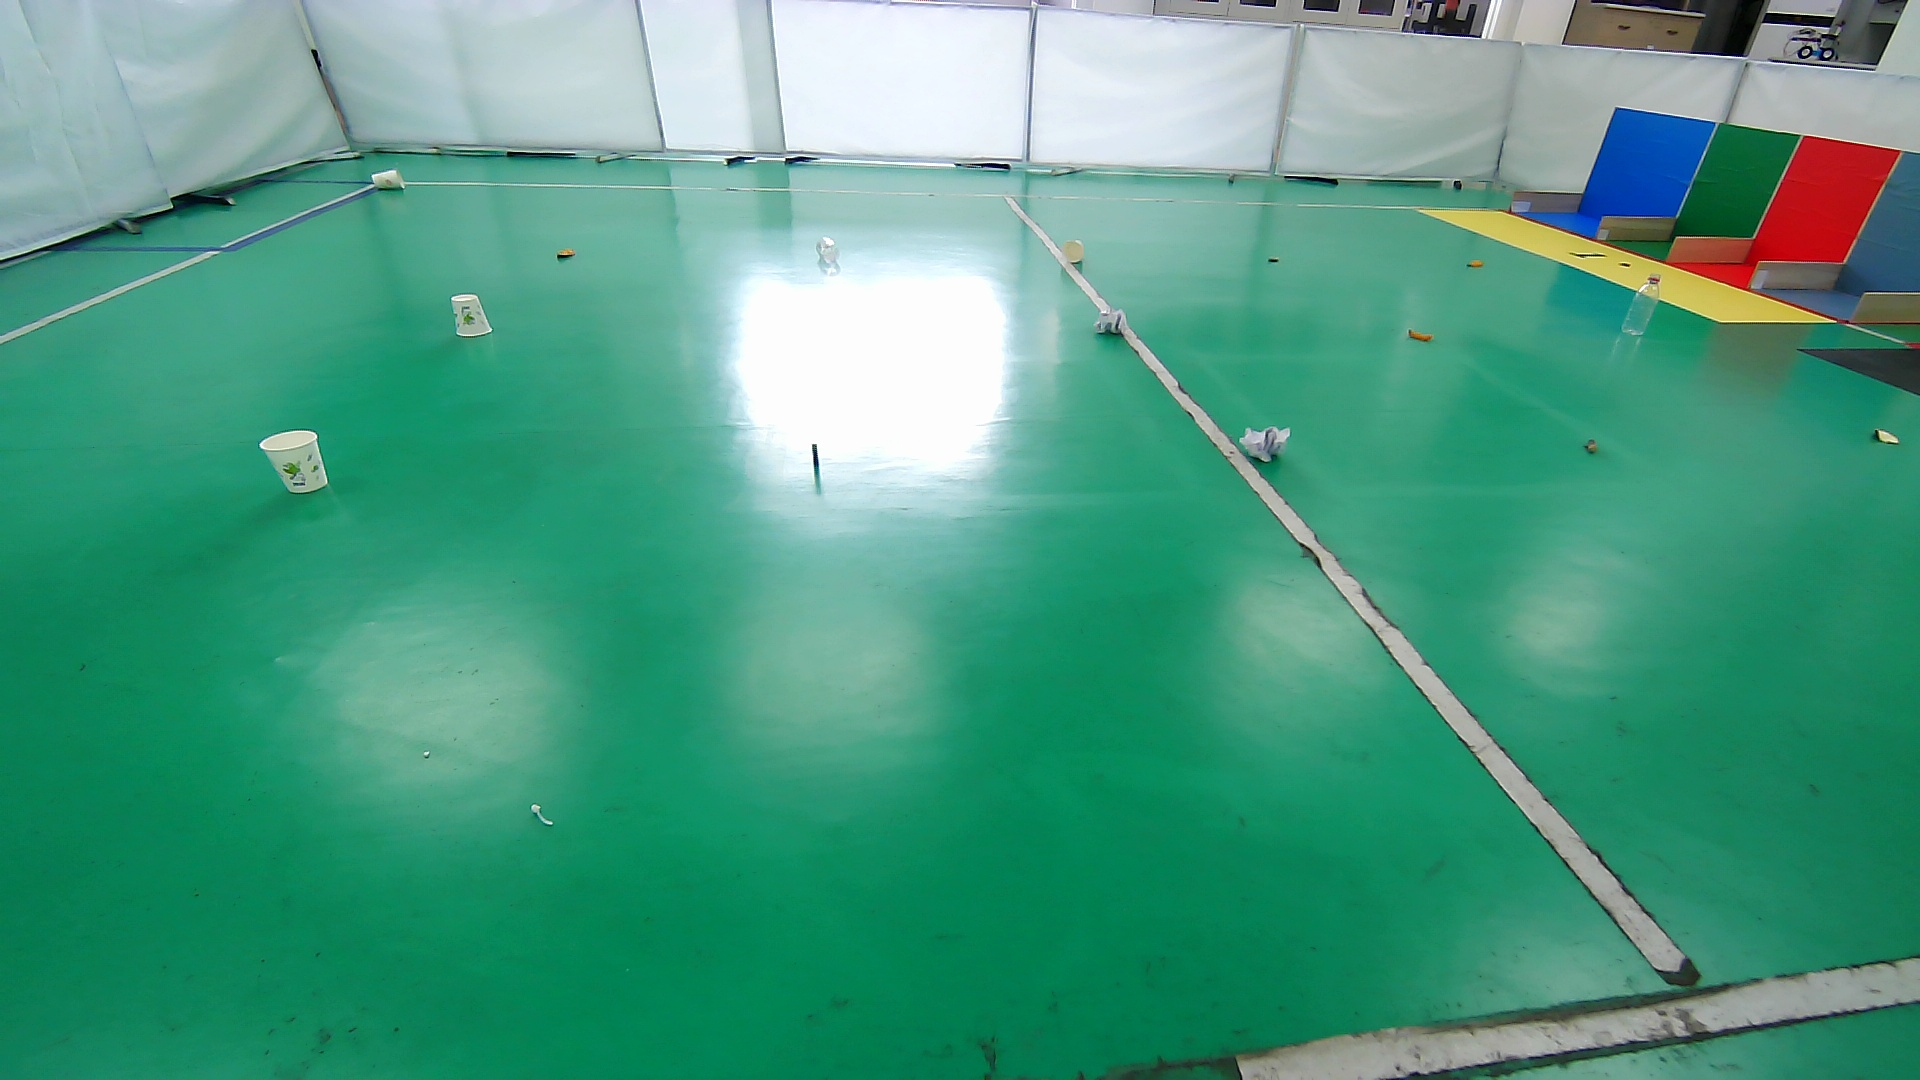battery: (1573, 431, 1609, 462), (803, 438, 829, 473), (1261, 251, 1286, 270)
bottle: (1618, 269, 1662, 339), (814, 233, 843, 264)
orangepeel: (1866, 423, 1902, 451), (1402, 324, 1440, 349), (550, 243, 582, 264), (1462, 256, 1489, 272)
papercup: (252, 427, 343, 500), (444, 291, 497, 342), (368, 167, 407, 193), (1060, 236, 1088, 266)
spitball: (1240, 419, 1294, 465), (1092, 306, 1129, 342)
